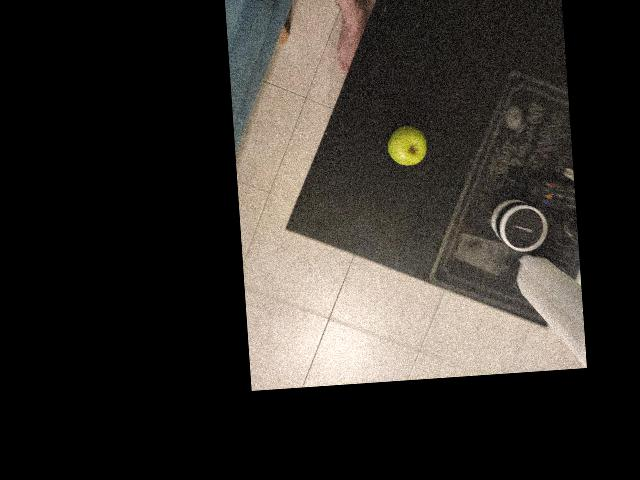apple: (320, 190, 369, 239)
